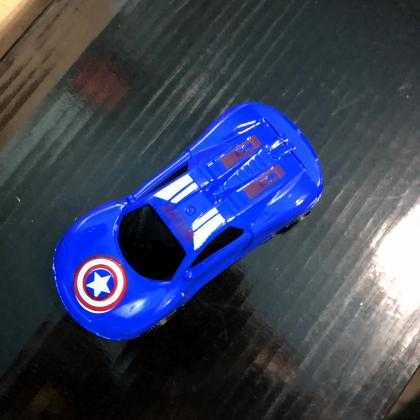Car: (52, 102, 325, 343)
